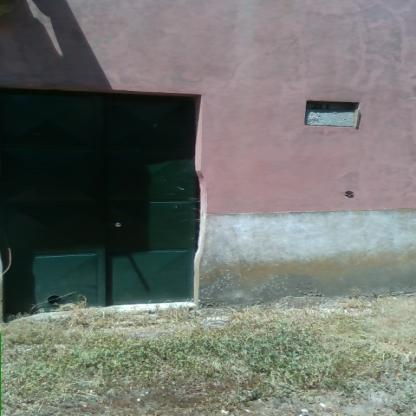closed: (0, 79, 220, 320)
